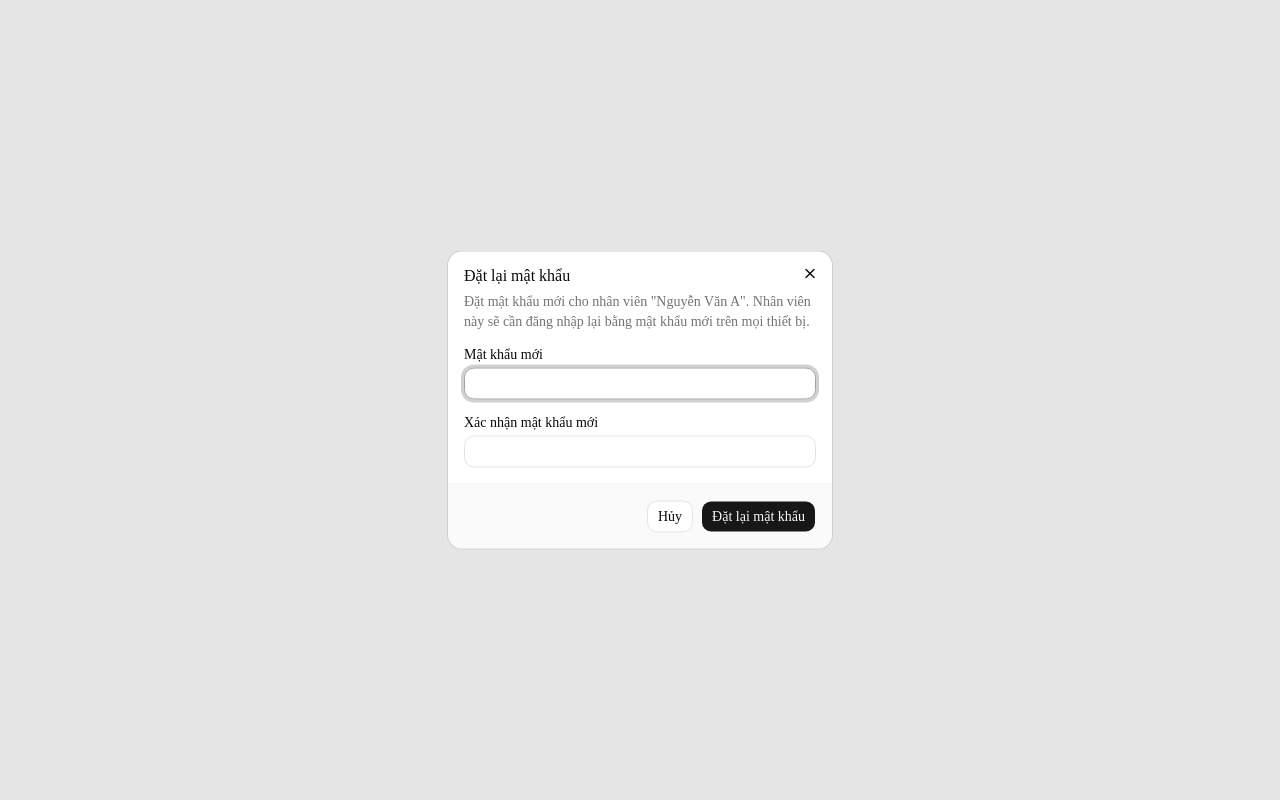
Test: UserResetPasswordDialog (T052.02C §11) › rejects a mismatched confirmation
This screenshot has width=1280, height=800.
Type "Password123" into the password field labelled "Mật khẩu mới". click: (640, 384)
box: [464,368,816,400]
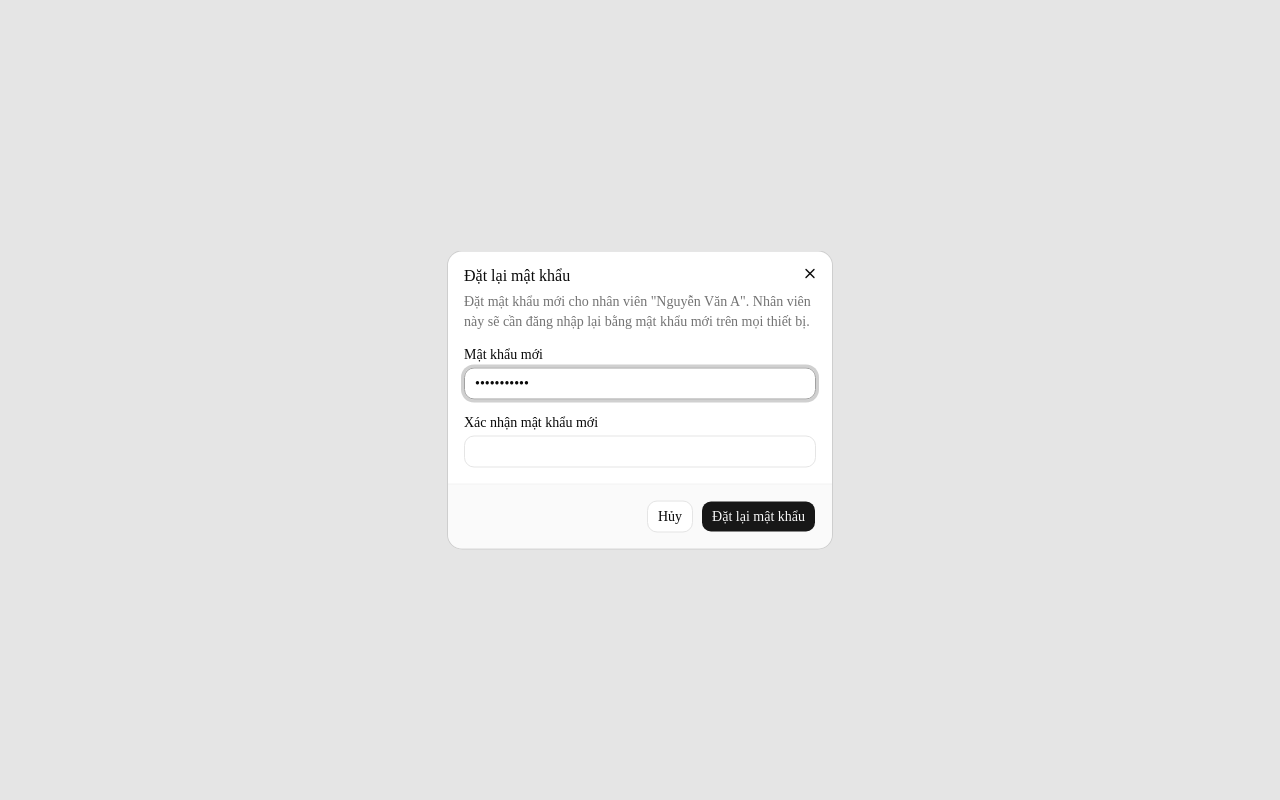
Type "Different123" into the password field labelled "Xác nhận mật khẩu mới". click: (640, 452)
box: [464,436,816,468]
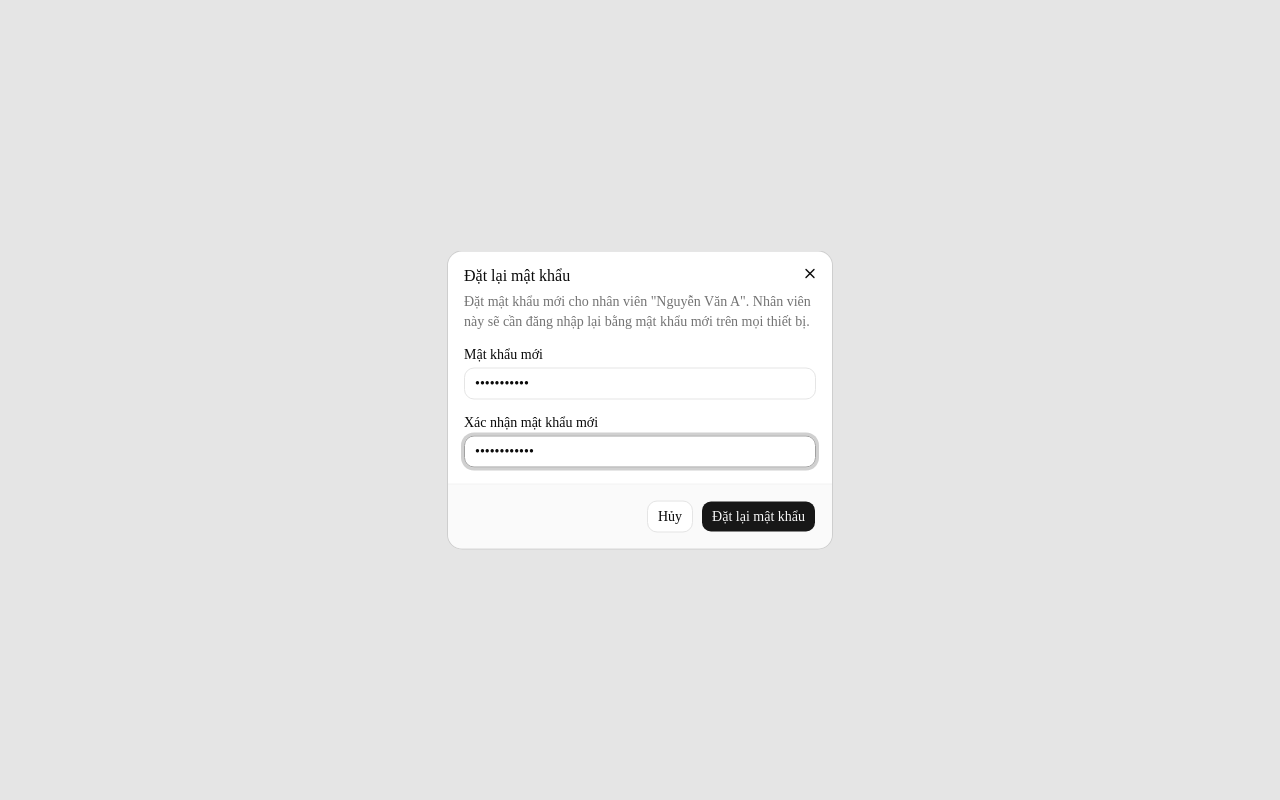
Click the button "Đặt lại mật khẩu". click: (759, 516)
box: [701,500,816,532]
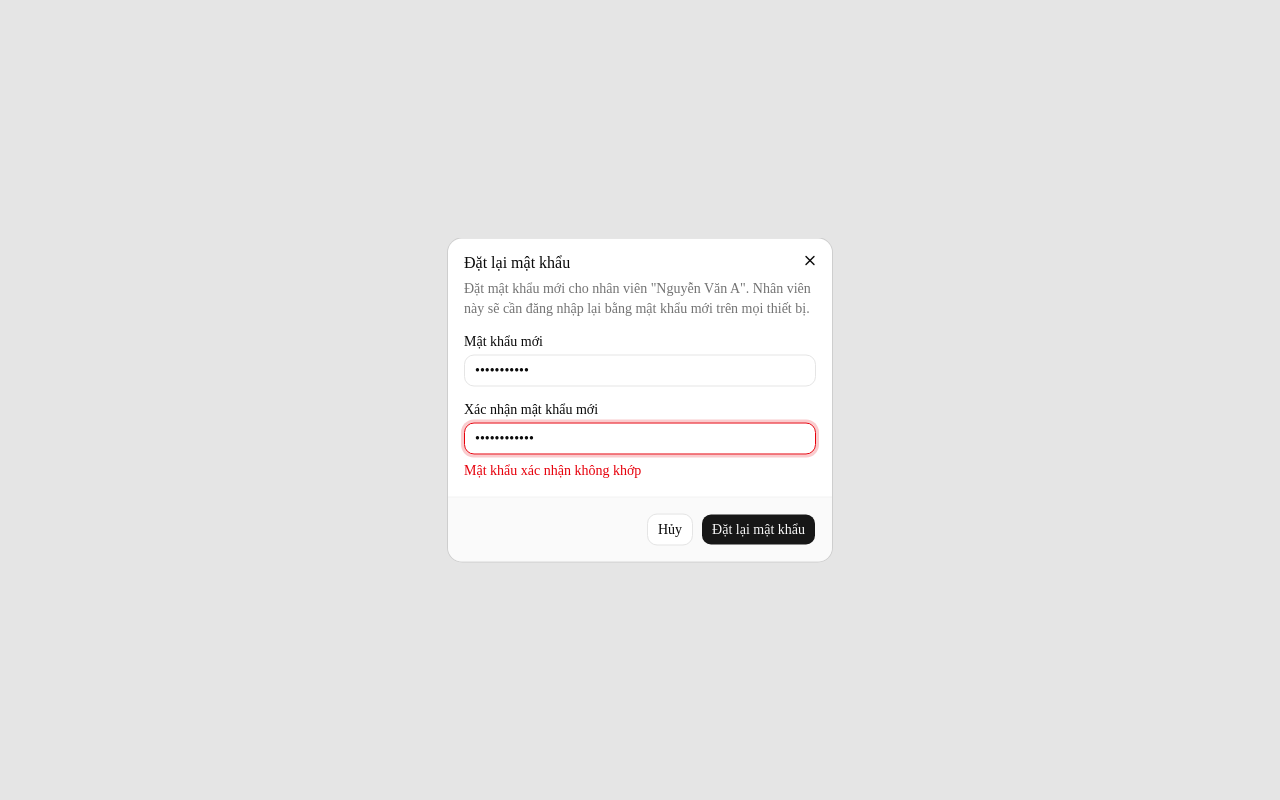
Expected: the text "Mật khẩu xác nhận không khớp" is shown, [464,462,641,478]
